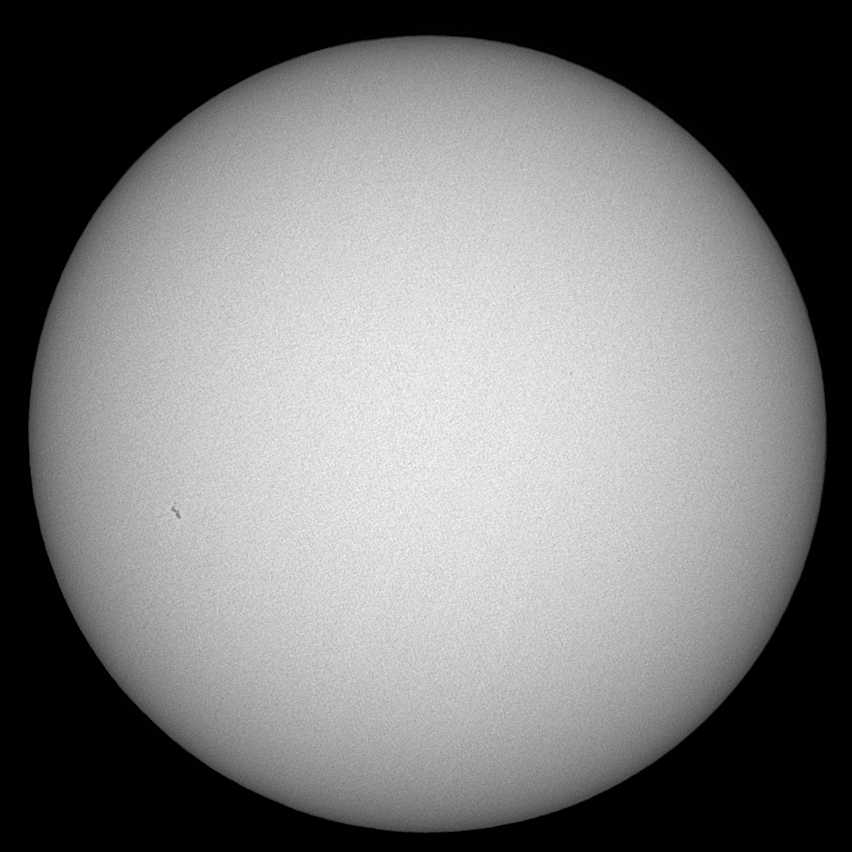sunspot: (167, 498, 184, 524)
